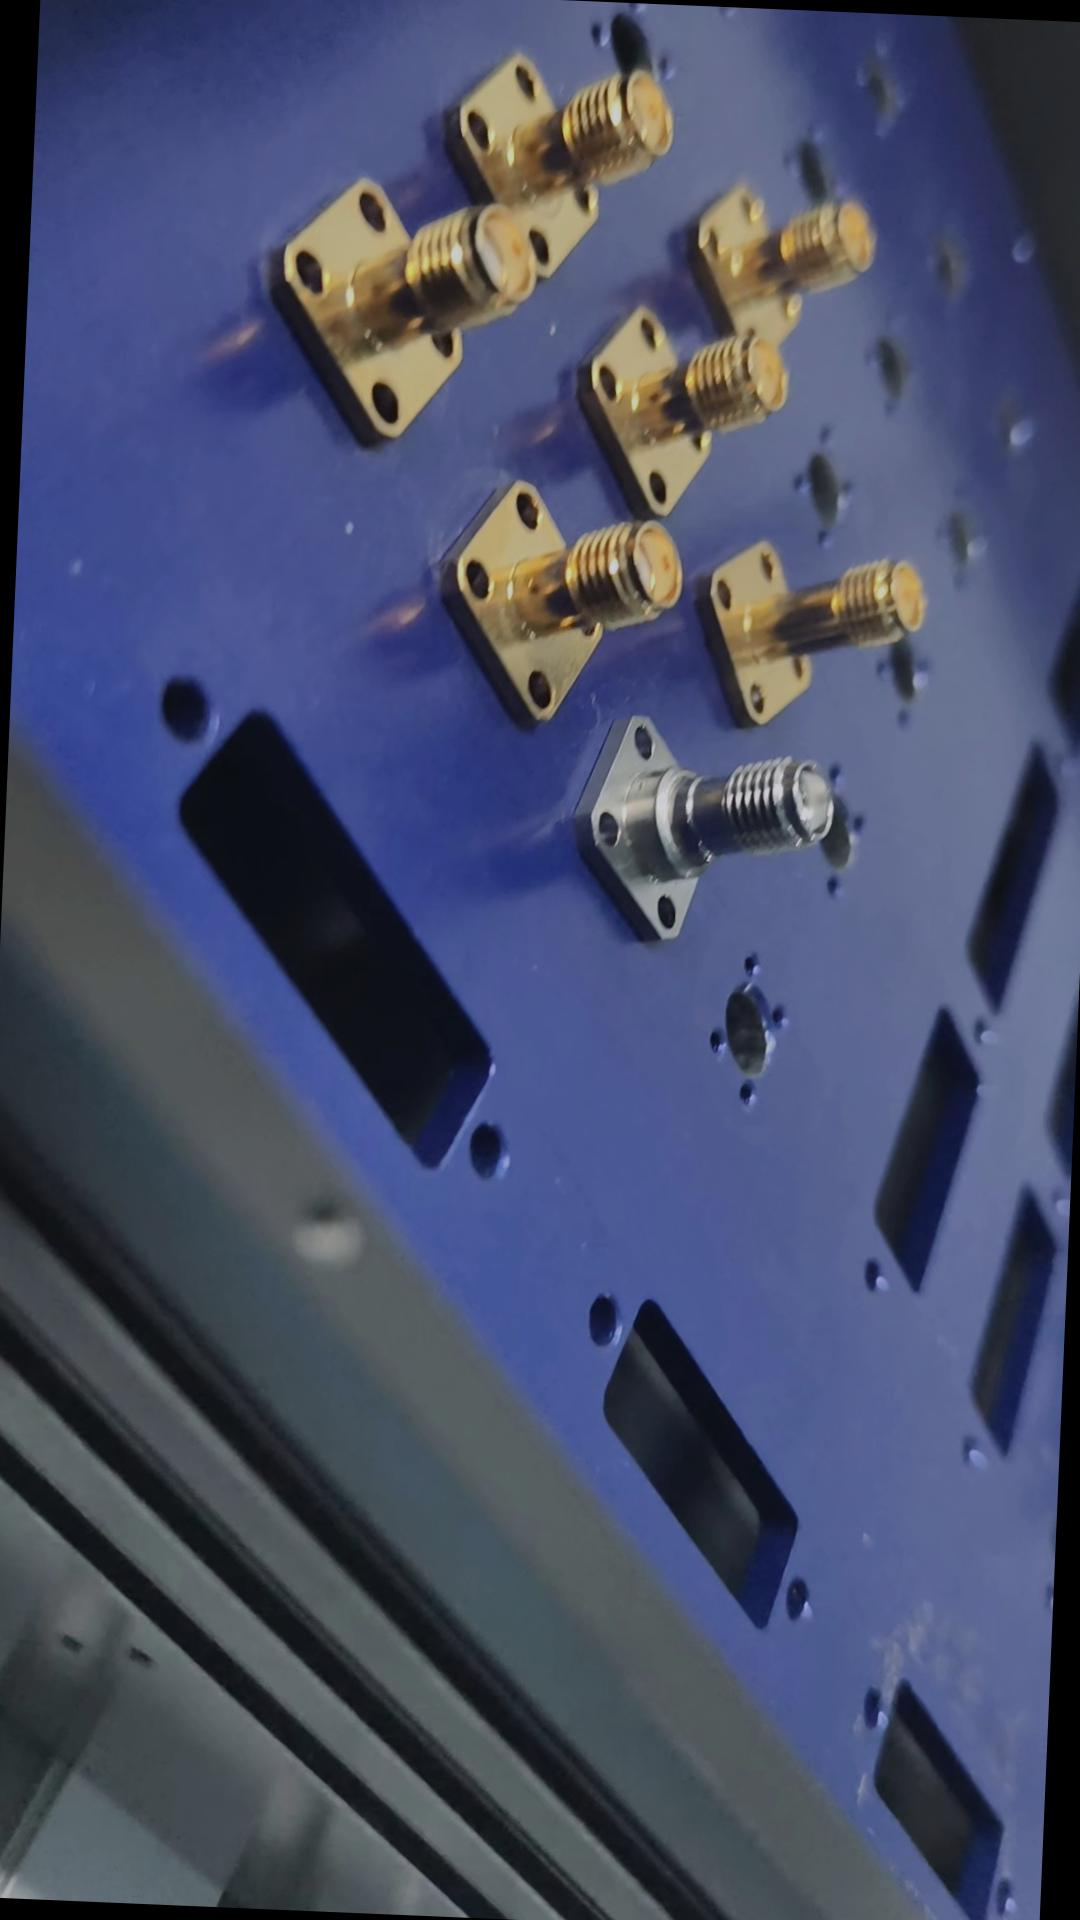SMA: (276, 171, 543, 448), (440, 454, 688, 731), (571, 695, 840, 949), (579, 281, 799, 531), (696, 526, 935, 740)
